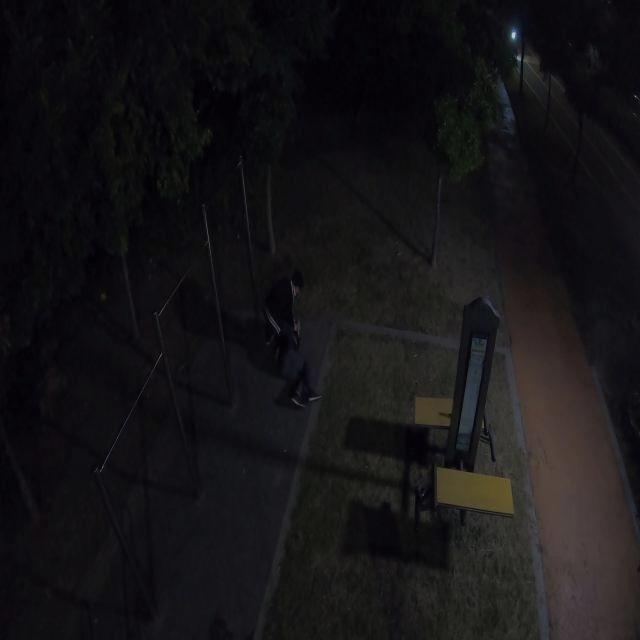fight: (253, 266, 329, 407)
